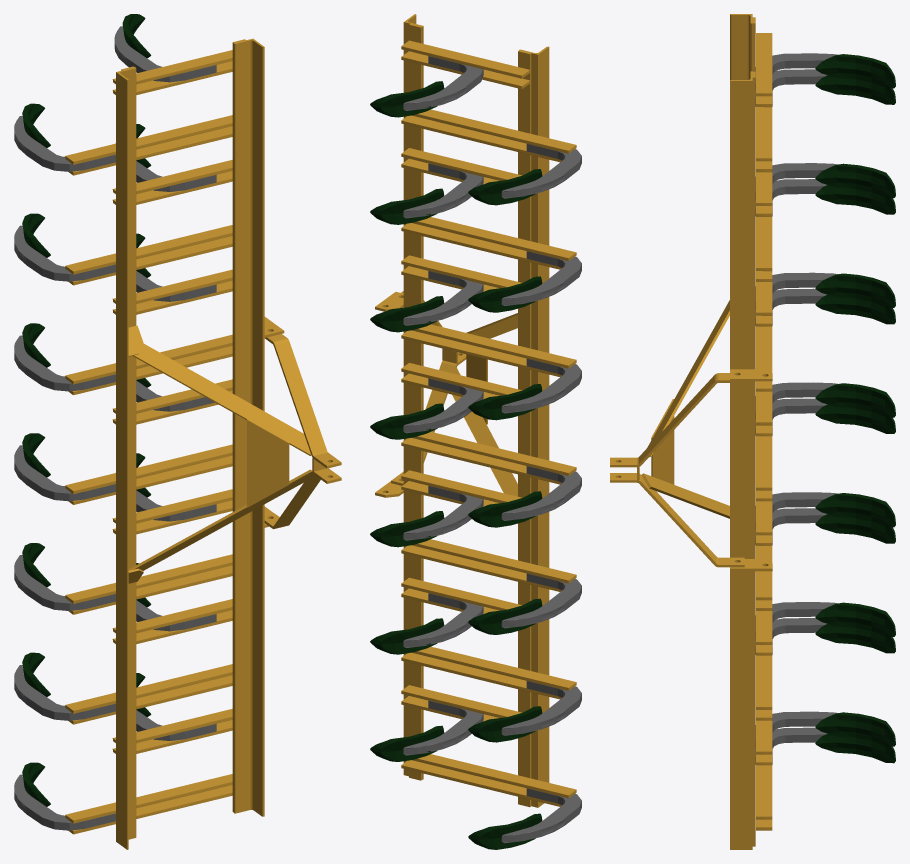
The model's file is cultivator.obj.
The picture shows the model from 3 angles, left to right: view 1: azimuth 30°, elevation 25°; view 2: azimuth 150°, elevation 25°; view 3: azimuth 270°, elevation 25°; orthographic projection. The views are drawn at different scales.
Parts seen in each view (by area): view 1: elements, CultivatorHackathon.001, CultivatorHackathon, CultivatorHackathon.092; view 2: elements, CultivatorHackathon, CultivatorHackathon.001, CultivatorHackathon.092; view 3: elements, CultivatorHackathon.001, CultivatorHackathon.092, CultivatorHackathon.
Part boxes in pixels (x1,y1,x2,y2): elements: (14,14,232,834); CultivatorHackathon.001: (232,38,264,816); CultivatorHackathon: (116,66,136,849); CultivatorHackathon.092: (128,317,341,583); elements: (370,40,581,849); CultivatorHackathon: (518,46,549,807); CultivatorHackathon.001: (403,14,423,780); CultivatorHackathon.092: (375,291,517,497); elements: (755,33,895,830); CultivatorHackathon.001: (730,71,755,849); CultivatorHackathon.092: (610,300,772,571); CultivatorHackathon: (730,14,755,80).
Bounding box in the file's own units: 0.8793 × 3 × 1.01.
